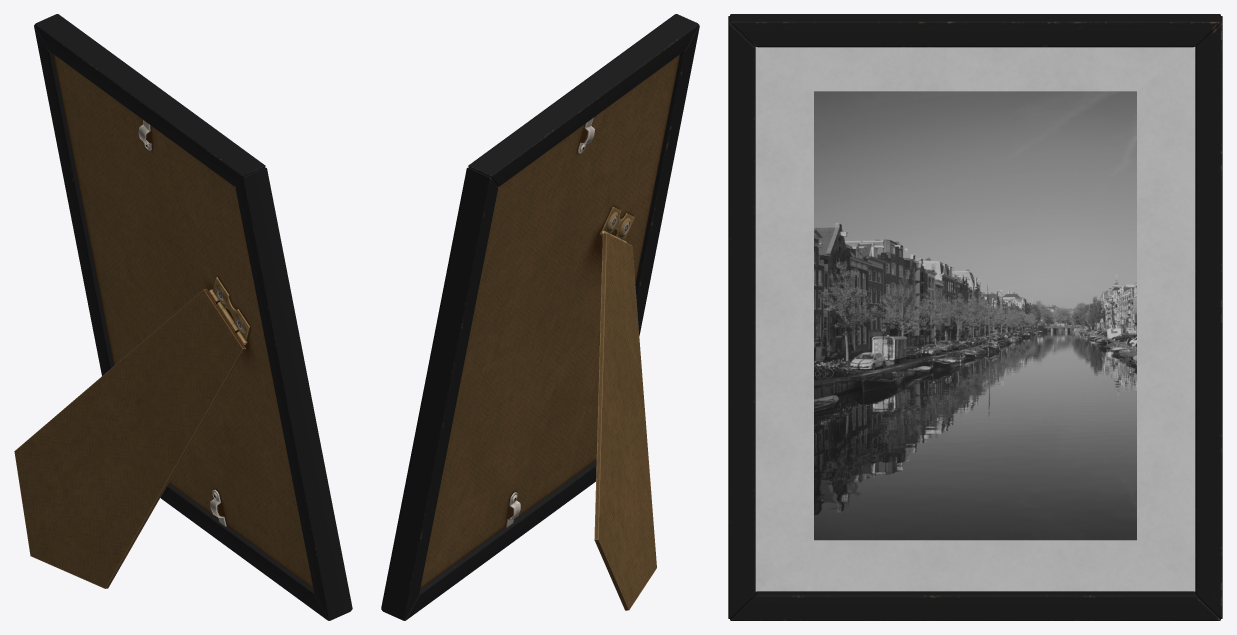
Rendered from standing_picture_frame_01_2k.gltf.
The picture shows the model from 3 angles, left to right: view 1: azimuth 30°, elevation 25°; view 2: azimuth 150°, elevation 25°; view 3: azimuth 270°, elevation 25°; orthographic projection. The views are drawn at different scales.
Parts seen in each view (by area): view 1: standing_picture_frame_01; view 2: standing_picture_frame_01; view 3: standing_picture_frame_01.
Part boxes in pixels (left/top/right/bottom): standing_picture_frame_01: left=14, top=14, right=352, bottom=620; standing_picture_frame_01: left=381, top=14, right=699, bottom=620; standing_picture_frame_01: left=728, top=14, right=1222, bottom=620.
Bounding box in the file's own units: 0.1003 × 0.2497 × 0.2008.
3 materials, 2 textured.
